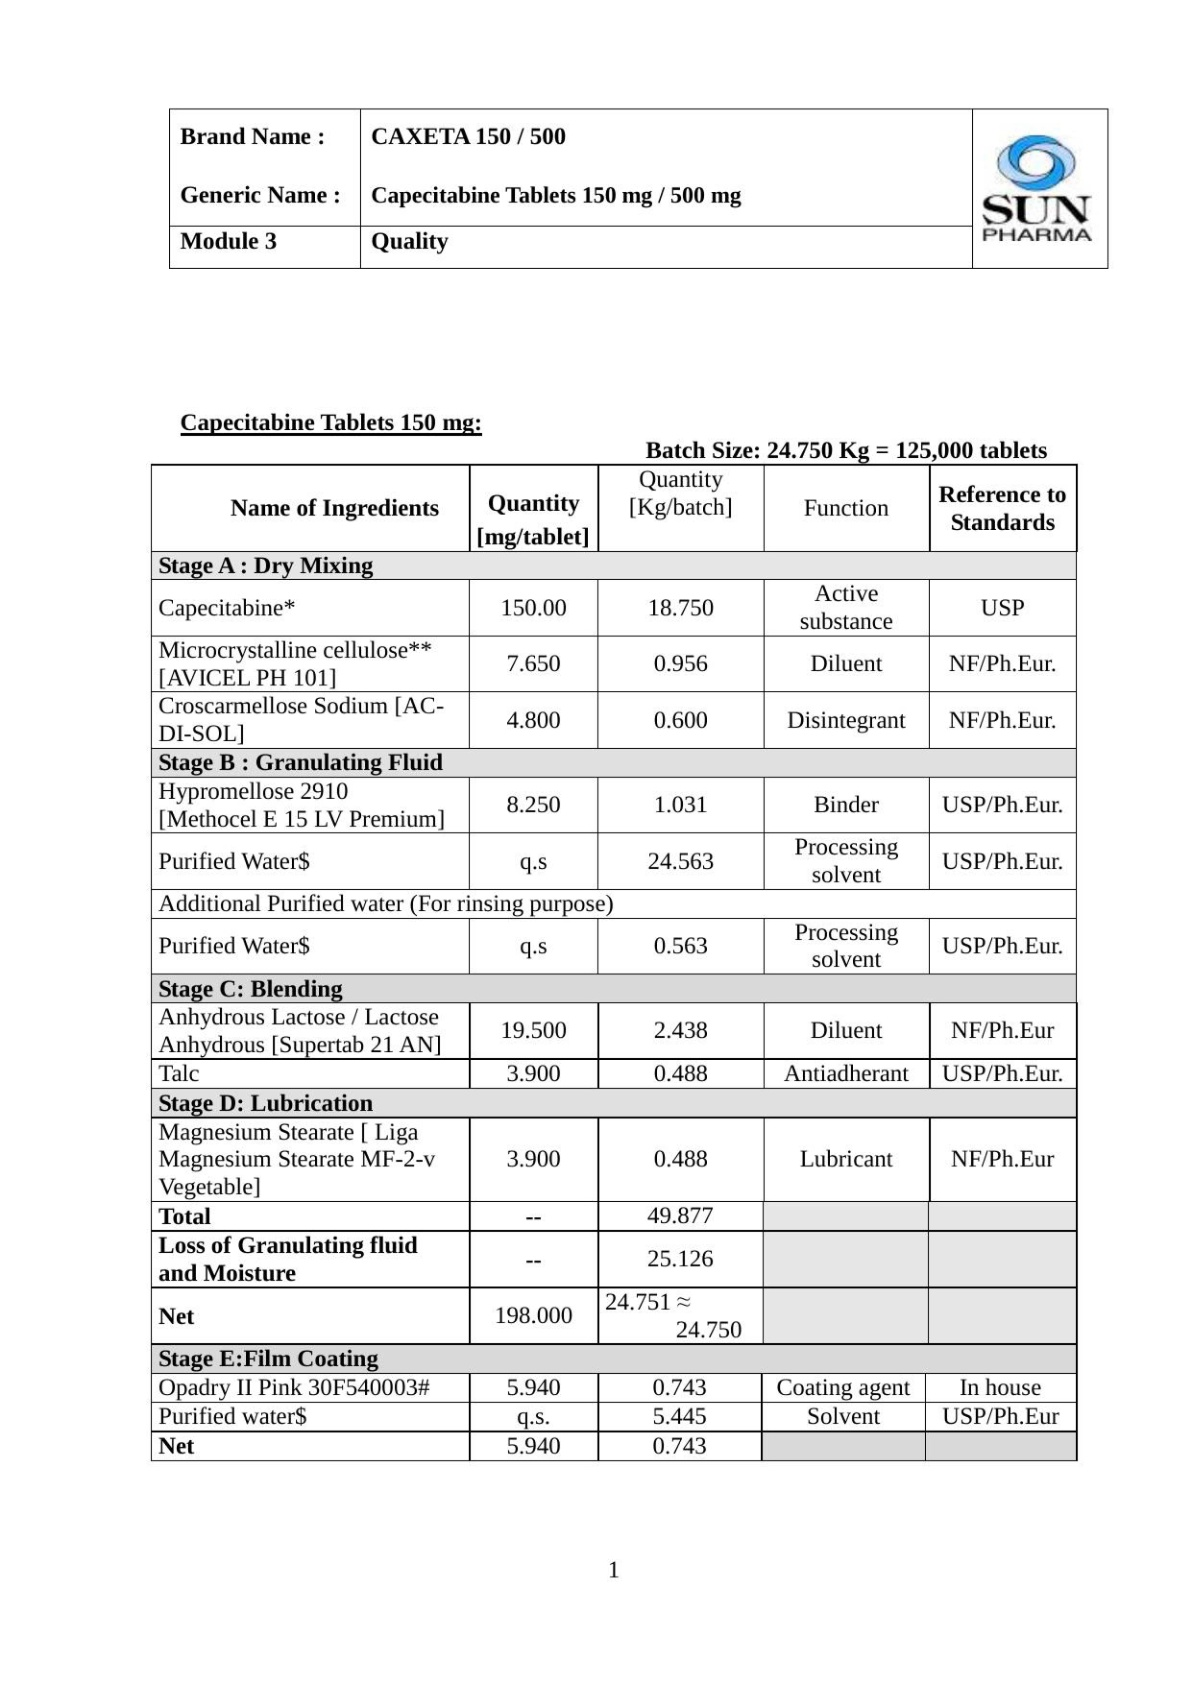merged_cells: (150, 463, 1078, 1461), (168, 107, 1109, 269)
